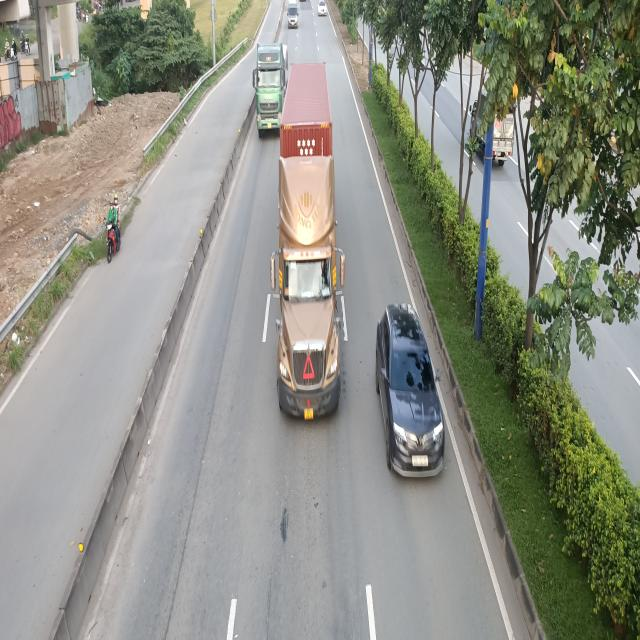car: (373, 300, 444, 477)
container: (270, 66, 345, 426), (254, 40, 289, 138)
